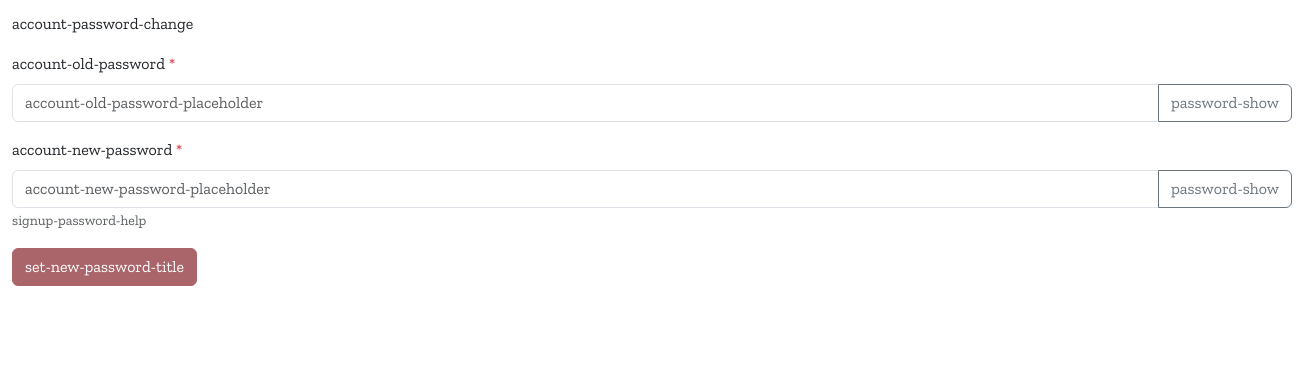
Test: AccountSetNewPasswordTab › renders and submits the form when the form is valid but receives an error
# Fill the form
In the password field with placeholder "account-old-password-placeholder": (586, 103) [12,84,1159,122], type "Password123@"
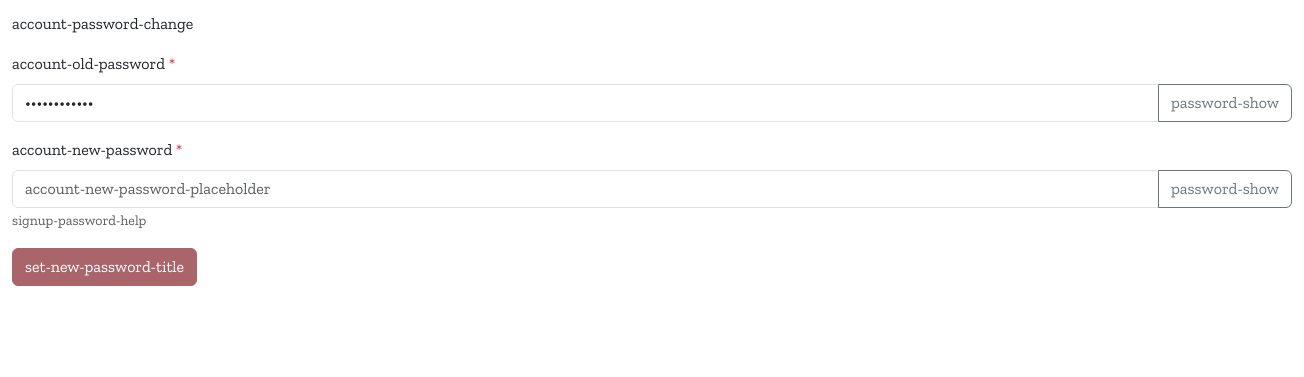
In the password field with placeholder "account-new-password-placeholder": (586, 189) [12,170,1159,208], type "Password123@"
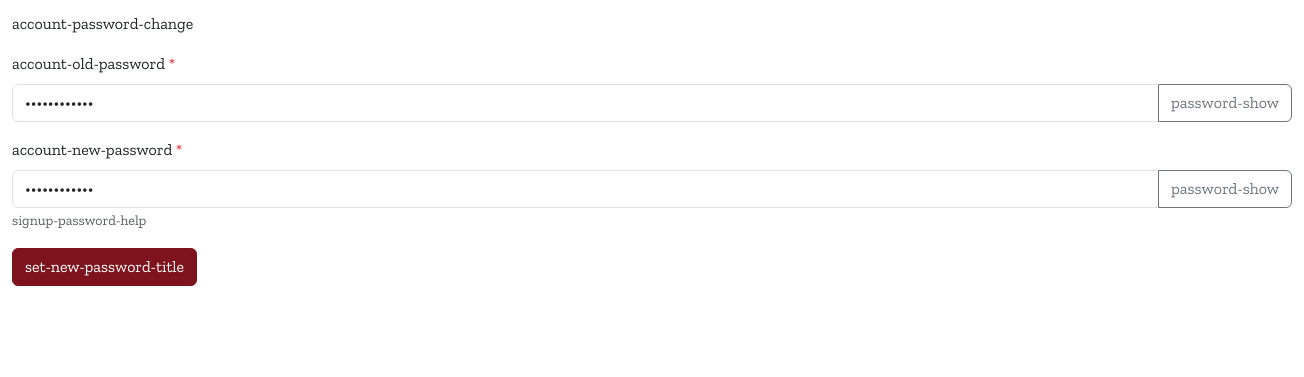
Click the button "set-new-password-title": (105, 267) [12,248,197,286]
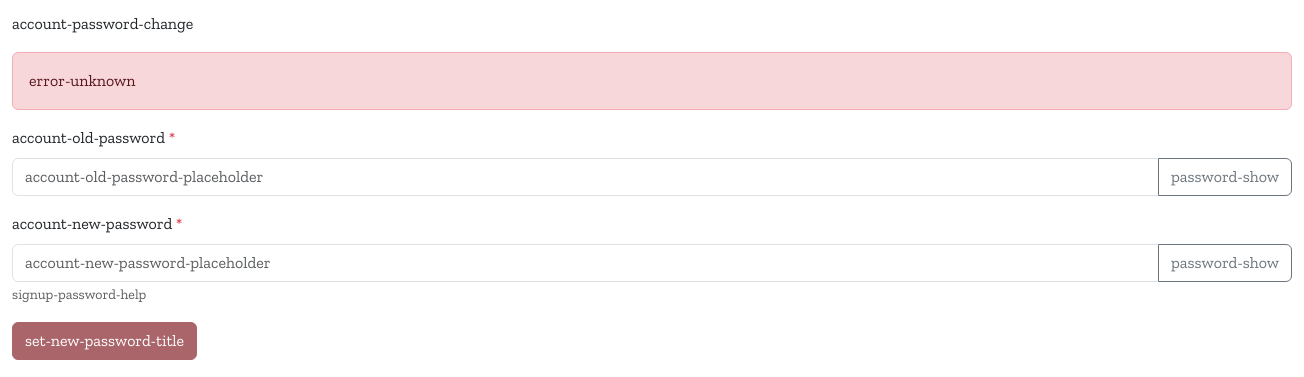
Expected: the text "error-unknown" is shown, [12,52,1292,110]
Expected: the password field with placeholder "account-old-password-placeholder" is empty, [12,158,1159,196]
Expected: the password field with placeholder "account-new-password-placeholder" is empty, [12,244,1159,282]
